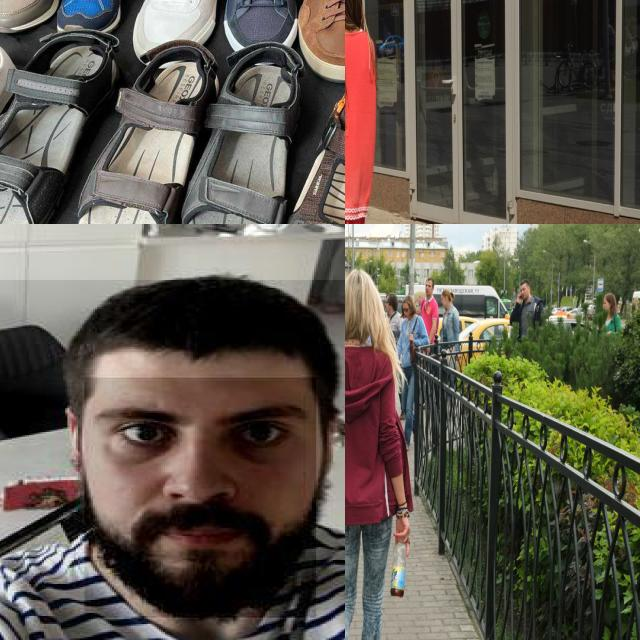No_Ear-Protection: (63, 405, 98, 473)
No_Glasses: (93, 400, 317, 474)
Sandals: (55, 13, 312, 224), (0, 2, 113, 224), (288, 59, 345, 224)
face_nomask: (84, 378, 318, 619)
head_nohelmet: (65, 301, 340, 381)
person: (0, 279, 345, 640)
